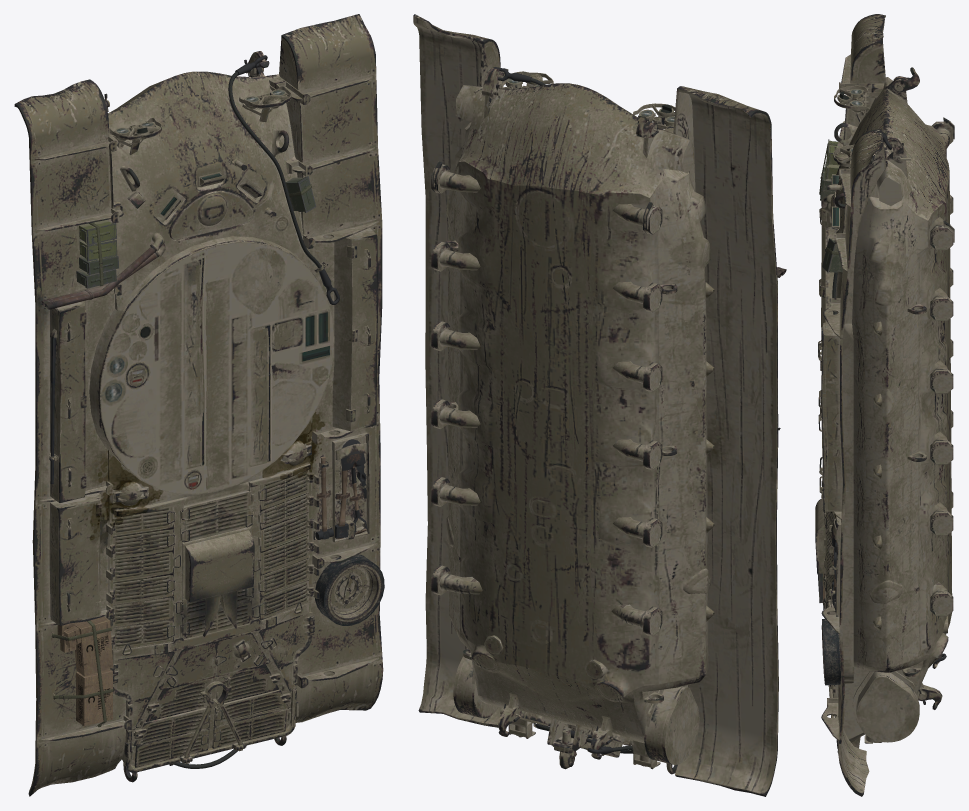
The model's file is Hull.glb.
The picture shows the model from 3 angles, left to right: view 1: azimuth 30°, elevation 25°; view 2: azimuth 150°, elevation 25°; view 3: azimuth 270°, elevation 25°; orthographic projection. The views are drawn at different scales.
Visible parts, largest first — view 1: set_0_group_0, set_0_group_1; view 2: set_0_group_0, set_0_group_1; view 3: set_0_group_0, set_0_group_1.
Boxes of the visible parts, x1=… form: set_0_group_0: x1=14, y1=14, x2=383, y2=796; set_0_group_1: x1=52, y1=55, x2=384, y2=768; set_0_group_0: x1=413, y1=14, x2=786, y2=796; set_0_group_1: x1=493, y1=67, x2=631, y2=754; set_0_group_0: x1=815, y1=14, x2=954, y2=796; set_0_group_1: x1=819, y1=131, x2=946, y2=685.
Size of the model in its own units: 3.67 by 7.08 by 1.39.
Materials: 2 (2 with a texture image).
